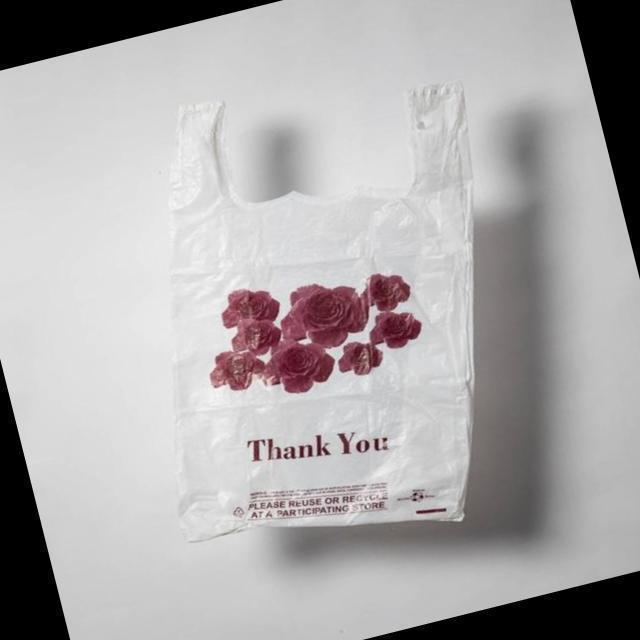Plastic_Bag: (113, 31, 564, 580)
